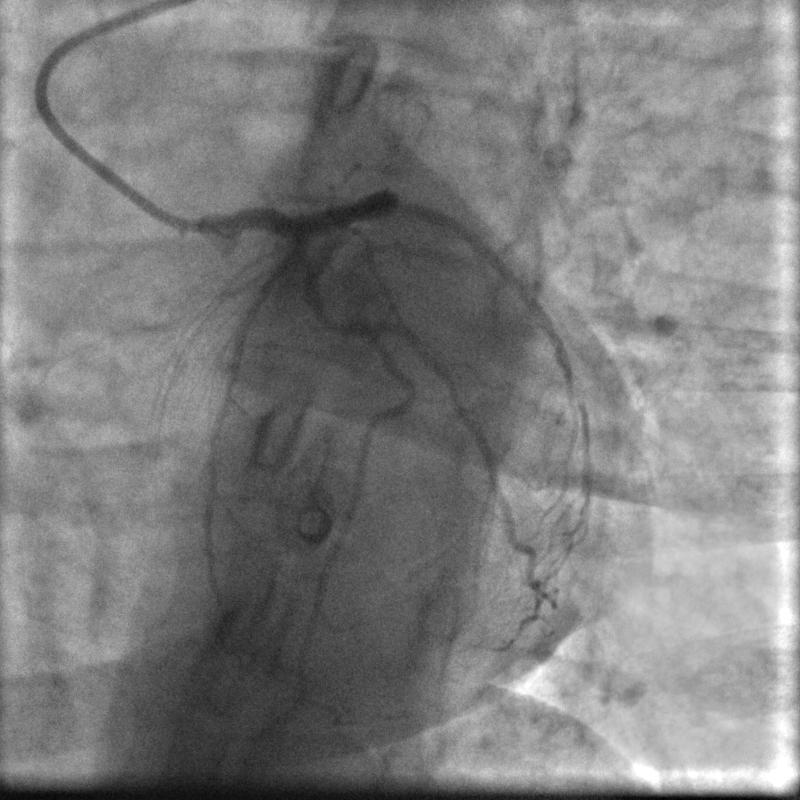Stenosis: (313, 299, 358, 339)
